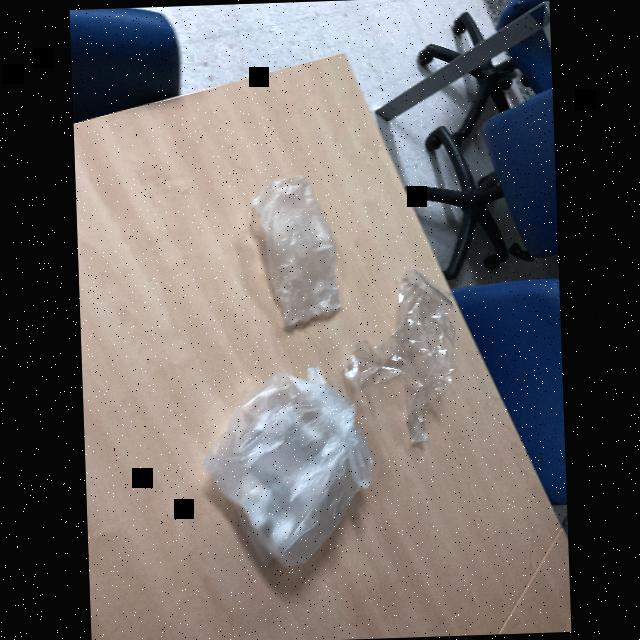plastic_bag: (199, 364, 375, 574)
scrap_plastic: (339, 259, 476, 471), (240, 170, 350, 336)
